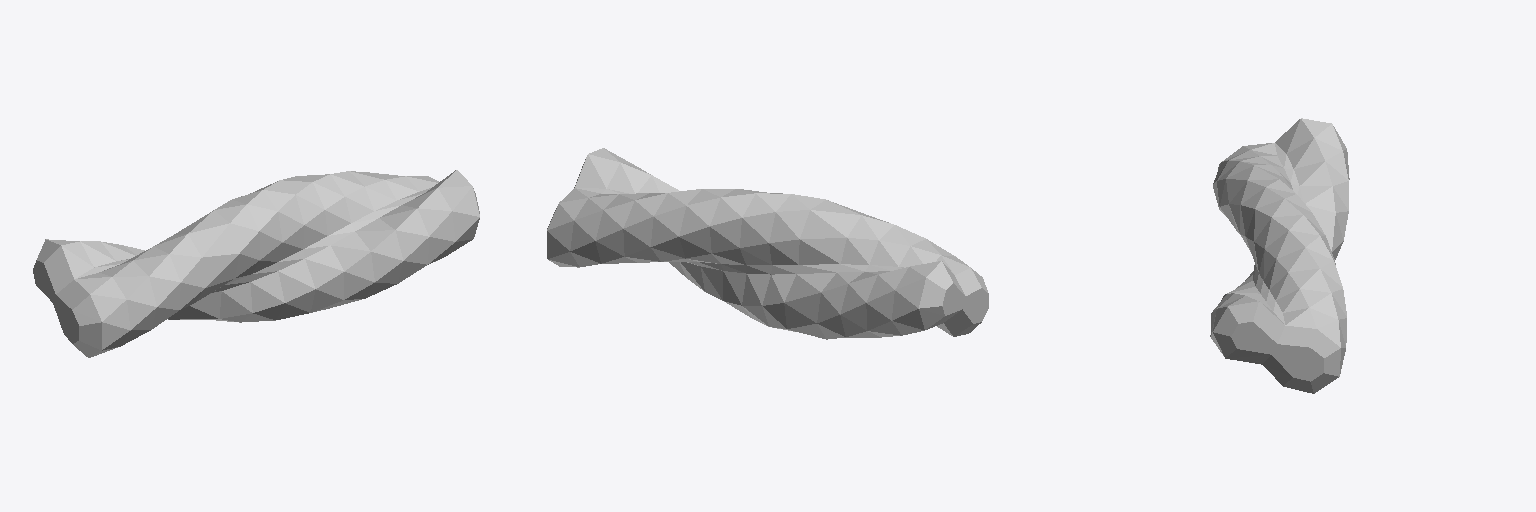
Rendered from BreadBraid.obj.
3 renders of one model, left to right at view 1: azimuth 30°, elevation 25°; view 2: azimuth 150°, elevation 25°; view 3: azimuth 270°, elevation 25°, orthographic.
Parts seen in each view (by area): view 1: BreadTwist; view 2: BreadTwist; view 3: BreadTwist.
Boxes of the visible parts, <box> form: BreadTwist: <box>33,170,479,357</box>; BreadTwist: <box>547,148,988,339</box>; BreadTwist: <box>1210,118,1349,393</box>.
Bounding box in the file's own units: 0.7708 × 0.2302 × 0.2336.